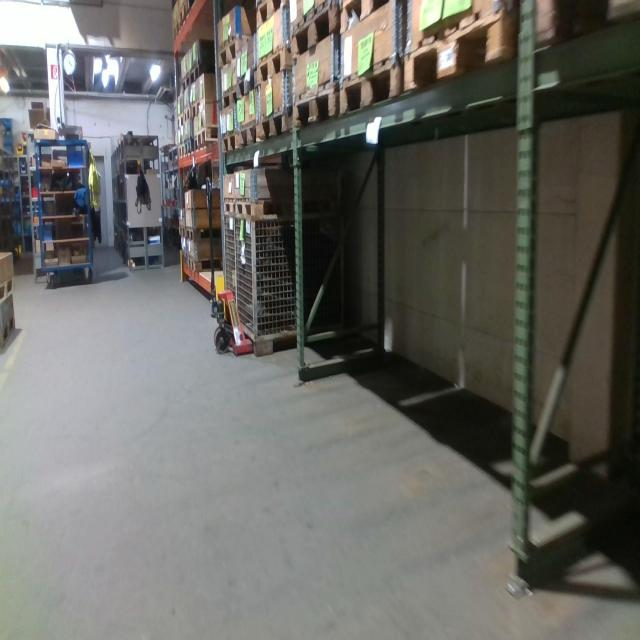pallet: (394, 2, 522, 101), (343, 48, 403, 118), (293, 1, 340, 69), (296, 74, 340, 130), (338, 2, 398, 35), (254, 41, 293, 91), (235, 201, 332, 220), (257, 103, 295, 146), (216, 32, 254, 65), (254, 1, 295, 30), (189, 58, 215, 94), (194, 123, 219, 152), (236, 70, 255, 103), (1, 312, 15, 356), (193, 95, 214, 123), (239, 118, 257, 150), (184, 225, 220, 240), (219, 131, 239, 156), (178, 0, 194, 30), (189, 255, 220, 270), (222, 86, 236, 117), (1, 273, 15, 303), (220, 199, 237, 215), (182, 134, 192, 159), (179, 74, 189, 99), (172, 23, 183, 44), (184, 102, 191, 128), (180, 251, 190, 268), (177, 140, 183, 162), (177, 111, 183, 131), (177, 223, 186, 232)
pallet_truck: (199, 172, 259, 357)
stillage: (233, 206, 354, 358), (221, 204, 235, 317)
